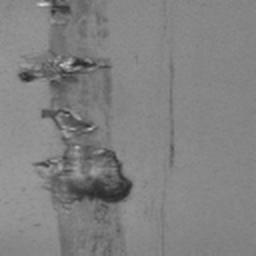Slag inclusion: (14, 0, 136, 253), (166, 46, 177, 172)
